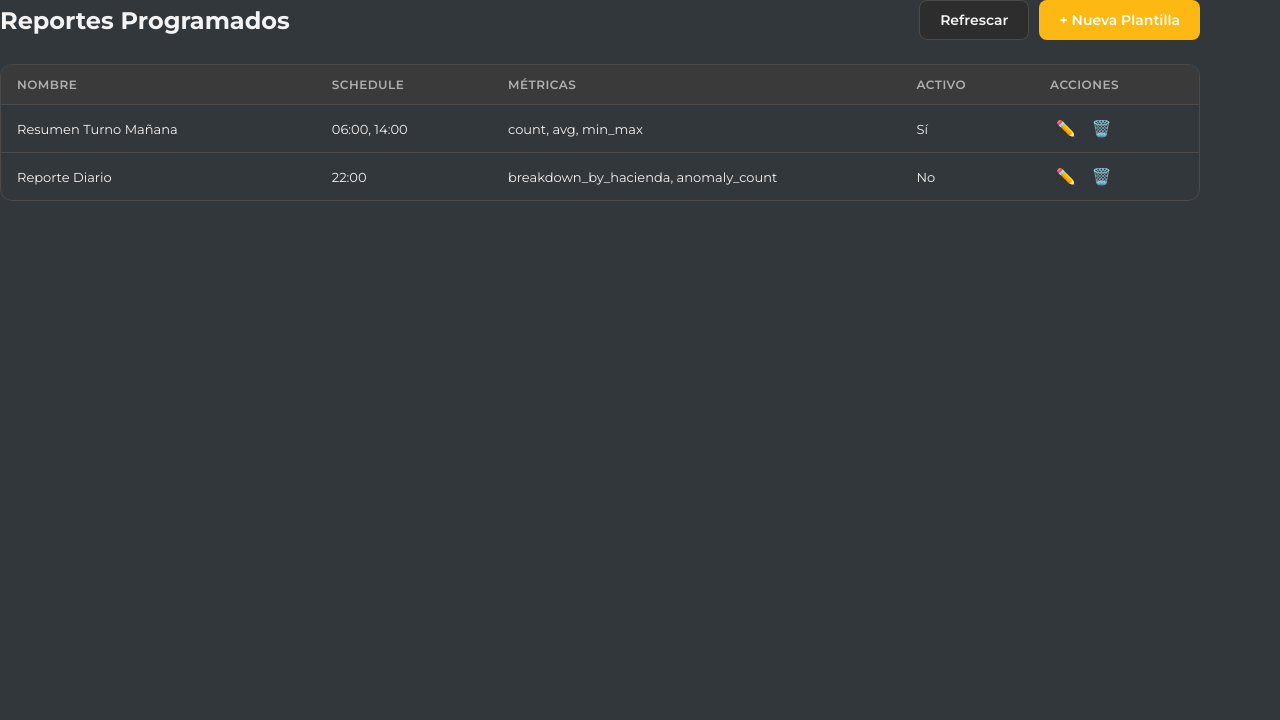
AdminReportes › eliminar plantilla (R6) › muestra ConfirmModal al pulsar boton eliminar
This screenshot has width=1280, height=720.
Click the button titled "Eliminar" in the row of "Resumen Turno Mañana" at (1101, 128), box 1085,115 -> 1117,142
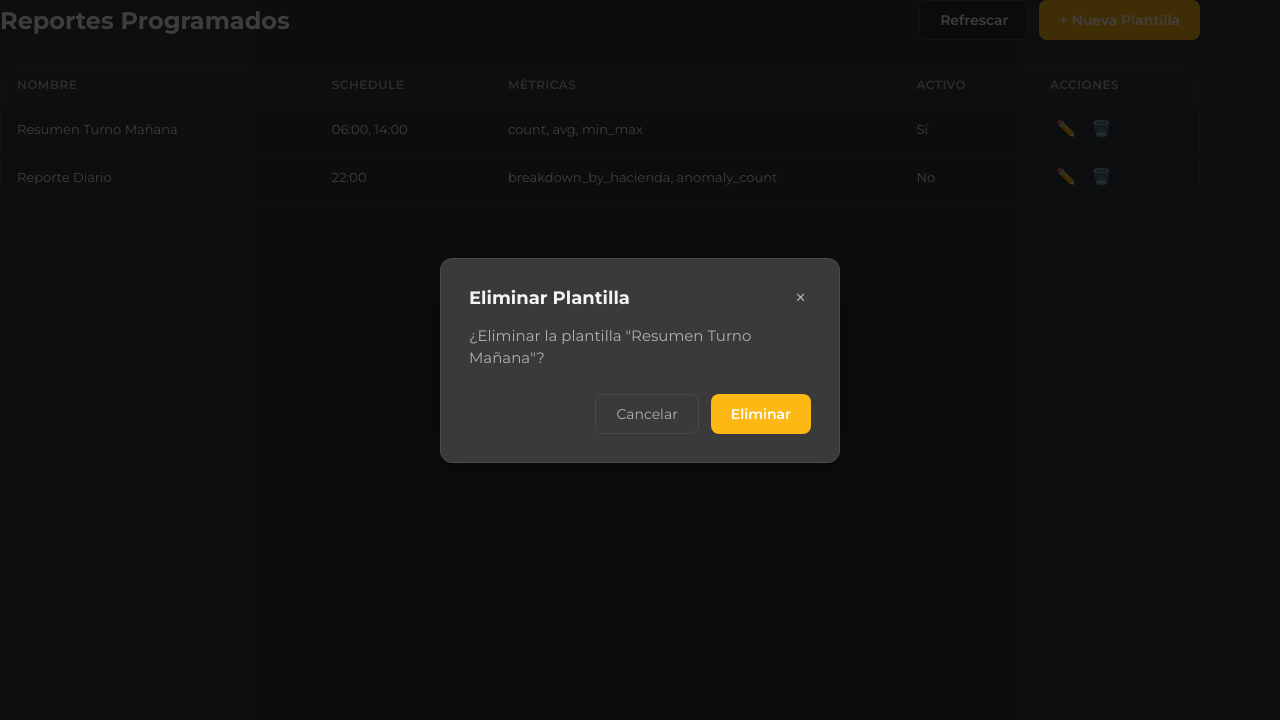
Expected: the heading "Eliminar Plantilla" is shown, 469,286 -> 630,308
